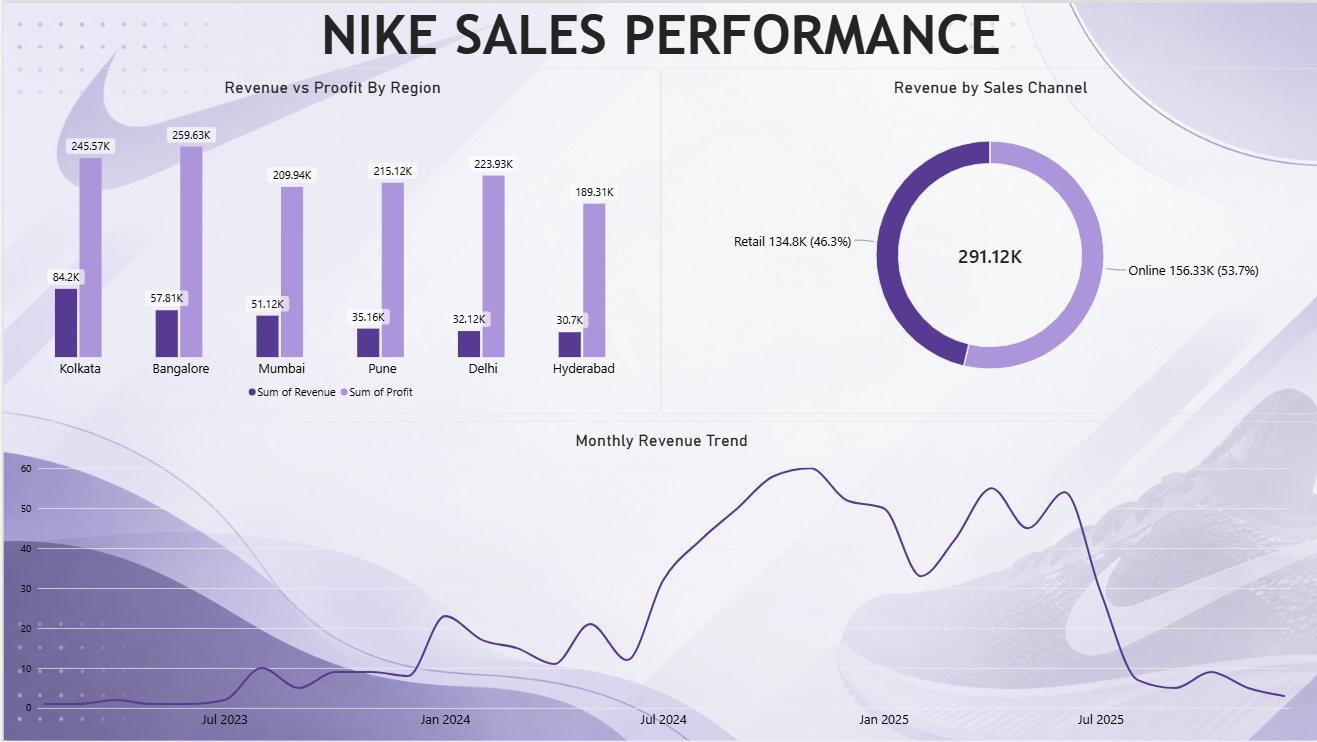

The dashboard page shown, as its layout file describes it:
{"tool":"powerbi","page":{"name":"Page 1","canvas":[1920,1080],"ordinal":0},"visuals":[{"type":"textbox","box":[0,0,1920,94.8],"z":5},{"type":"clusteredColumnChart","title":"Revenue vs Proofit By Region","fields":{"Category":["Sheet1.Region"],"Y":["Sum(Sheet1.Revenue)","Sum(Sheet1.Profit)"]},"box":[0,94.8,960,504.8],"z":6},{"type":"donutChart","title":"Revenue by Sales Channel","fields":{"Category":["Sheet1.Sales_Channel"],"Y":["Sum(Sheet1.Revenue)"]},"box":[960,94.8,960,504.8],"z":7},{"type":"lineChart","title":"Monthly Revenue Trend","fields":{"Category":["Sheet1.Order_Date.Variation.Date Hierarchy.Year","Sheet1.Order_Date.Variation.Date Hierarchy.Month"],"Y":["CountNonNull(Sheet1.Order_ID)"]},"box":[0,609.8,1920,469.8],"z":8}]}

Visuals, with their boxes in screenshot pixels (x1, y1, x2, y2), scaled from the page's 1920x1080 canvas onto the 1317x742 screenshot:
textbox: rect(0, 0, 1316, 65)
"Revenue vs Proofit By Region" clusteredColumnChart: rect(0, 65, 658, 412)
"Revenue by Sales Channel" donutChart: rect(658, 65, 1316, 412)
"Monthly Revenue Trend" lineChart: rect(0, 419, 1316, 741)
